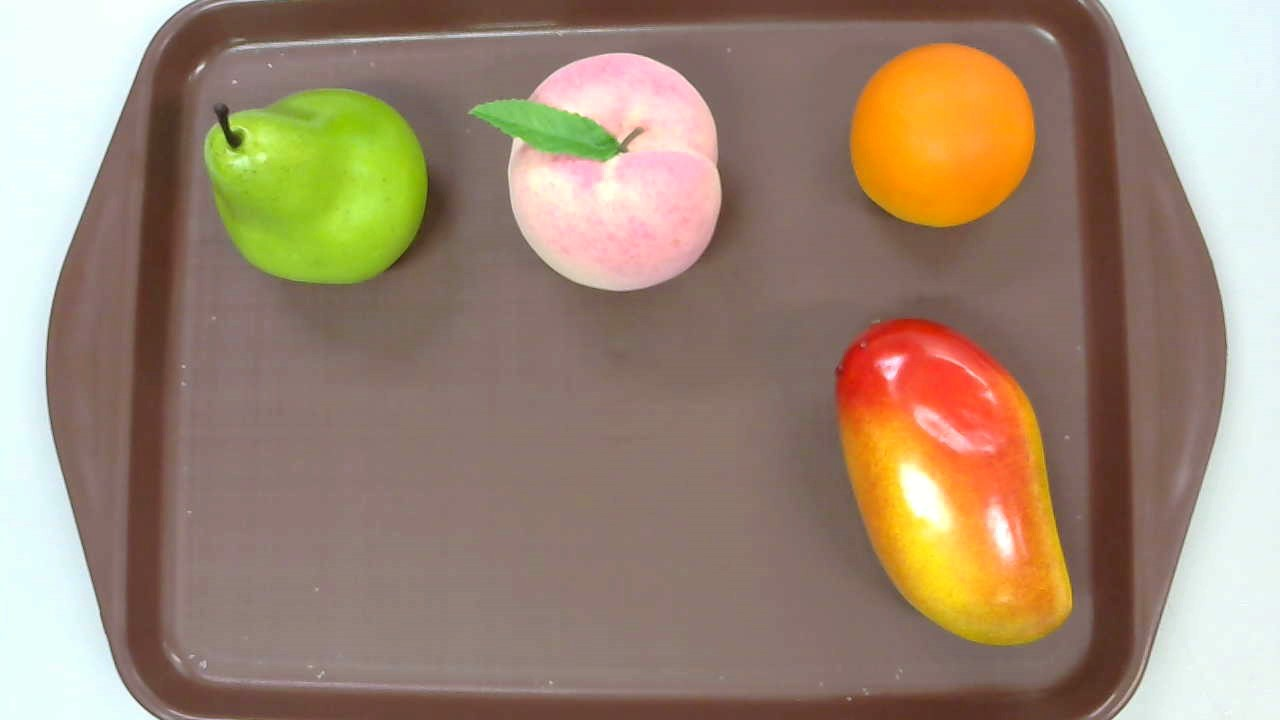bun: (851, 44, 1035, 228)
green pear: (204, 87, 428, 286)
peach: (466, 53, 723, 291)
red mango: (836, 316, 1072, 647)
